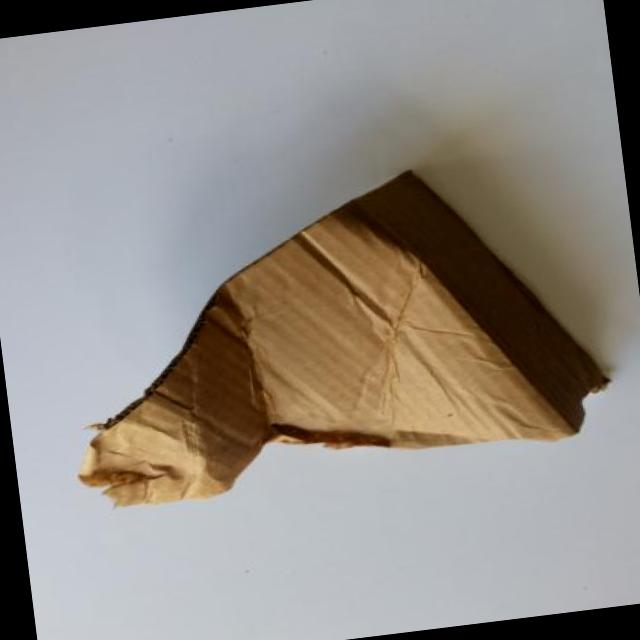cardboard: (81, 172, 604, 504)
